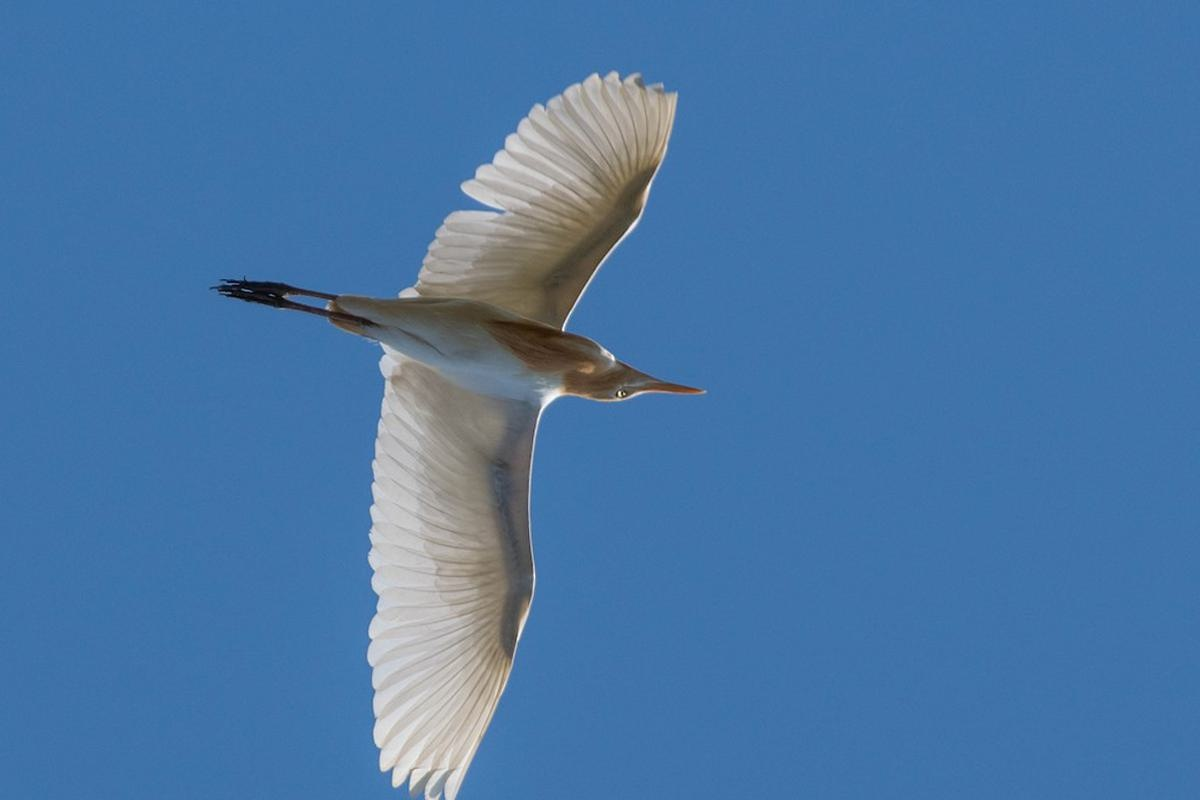egret: (193, 45, 759, 800)
